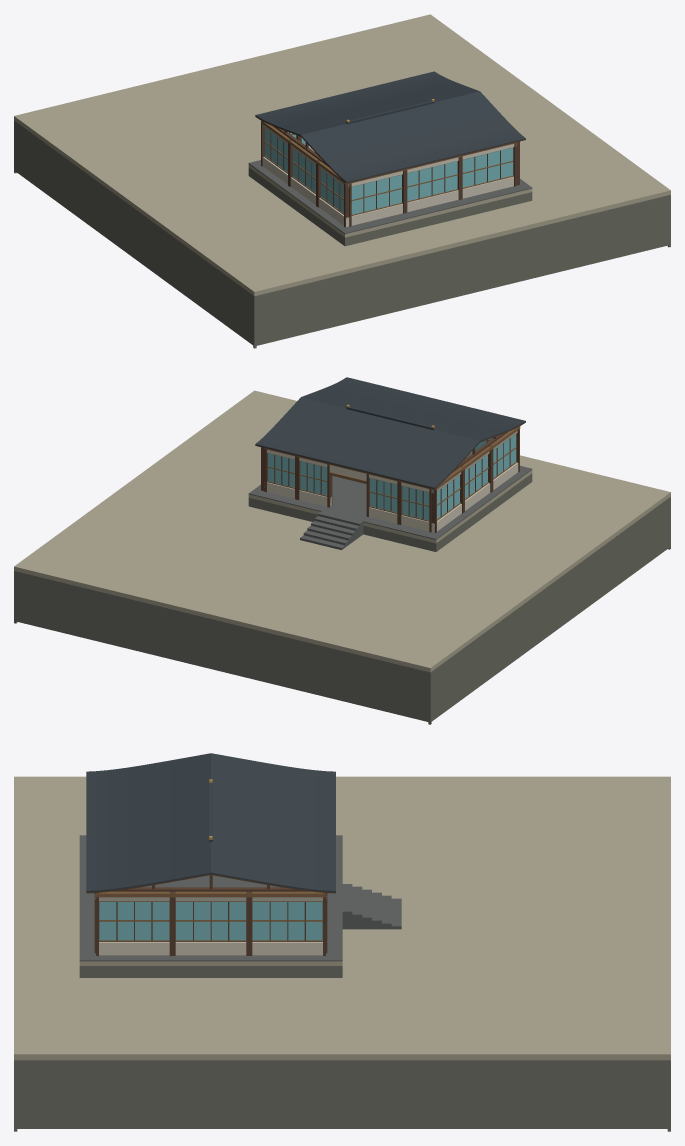
3 renders of one model, top to bottom at view 1: azimuth 30°, elevation 25°; view 2: azimuth 150°, elevation 25°; view 3: azimuth 270°, elevation 25°, orthographic. The views are drawn at different scales.
Parts seen in each view (by area): view 1: 连续岩土实体与最小原生岩块, 连续飞檐与梁椽, 分格窗洞与木石墙 (×2), 真实入口台基及实开门轴; view 2: 连续岩土实体与最小原生岩块, 连续飞檐与梁椽, 中轴实开门墙, 真实入口台基及实开门轴, 分格窗洞与木石墙, 六级实体0.2m入口踏步, 石铺面与混凝土承板; view 3: 连续岩土实体与最小原生岩块, 连续飞檐与梁椽, 分格窗洞与木石墙, 真实入口台基及实开门轴, 六级实体0.2m入口踏步, 石铺面与混凝土承板.
Part boxes in pixels (x1=…): 连续岩土实体与最小原生岩块: x1=14, y1=14, x2=670, y2=348; 连续飞檐与梁椽: x1=255, y1=71, x2=525, y2=183; 分格窗洞与木石墙 (×2): x1=261, y1=120, x2=516, y2=227; 真实入口台基及实开门轴: x1=248, y1=160, x2=532, y2=246; 连续岩土实体与最小原生岩块: x1=14, y1=390, x2=670, y2=724; 连续飞檐与梁椽: x1=255, y1=377, x2=525, y2=489; 中轴实开门墙: x1=264, y1=448, x2=431, y2=532; 真实入口台基及实开门轴: x1=248, y1=465, x2=532, y2=551; 分格窗洞与木石墙: x1=431, y1=426, x2=520, y2=532; 六级实体0.2m入口踏步: x1=300, y1=511, x2=363, y2=549; 石铺面与混凝土承板: x1=330, y1=476, x2=366, y2=516; 连续岩土实体与最小原生岩块: x1=14, y1=776, x2=670, y2=1131; 连续飞檐与梁椽: x1=86, y1=753, x2=335, y2=893; 分格窗洞与木石墙: x1=96, y1=891, x2=325, y2=955; 真实入口台基及实开门轴: x1=79, y1=835, x2=342, y2=977; 六级实体0.2m入口踏步: x1=342, y1=884, x2=401, y2=929; 石铺面与混凝土承板: x1=142, y1=875, x2=279, y2=939.
Size of the model in its own units: 40 by 12.4 by 40.
Materials: 13 (13 with a texture image).
